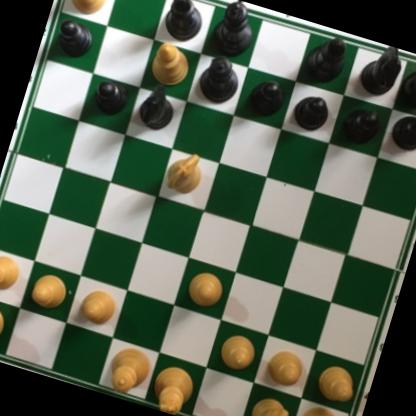black-bishop: (297, 27, 352, 86), (158, 0, 211, 47)
black-king: (207, 0, 263, 62)
black-knight: (353, 40, 408, 101), (132, 78, 183, 136)
black-pawn: (334, 102, 383, 153), (48, 15, 100, 63), (243, 74, 289, 121), (290, 90, 334, 135), (88, 76, 131, 119), (387, 107, 416, 156)
black-queen: (192, 49, 247, 111)
black-rook: (395, 53, 416, 115)
white-bishop: (143, 35, 197, 92), (57, 0, 116, 22)
white-king: (143, 358, 198, 416)
white-knight: (160, 146, 209, 200), (243, 390, 293, 416)
white-pawn: (214, 329, 262, 377), (312, 360, 360, 408), (26, 268, 74, 314), (182, 265, 229, 311), (261, 345, 308, 391), (75, 284, 123, 329), (0, 247, 26, 294)
white-queen: (101, 340, 156, 403)
white-rook: (289, 399, 352, 416), (0, 294, 10, 357)
